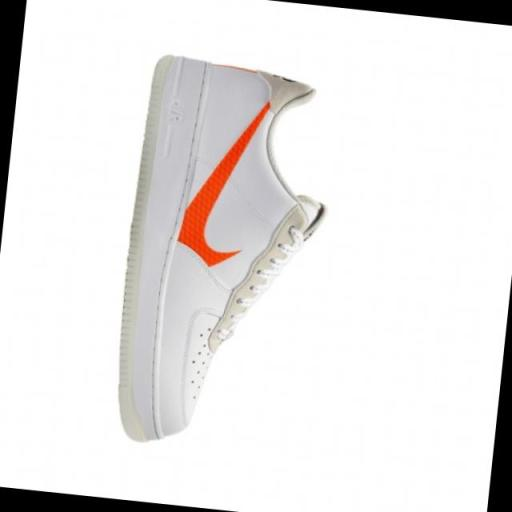Nike: (166, 84, 276, 279)
